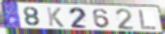2: (68, 6, 90, 30), (114, 8, 136, 31)
6: (92, 8, 111, 29)
8: (23, 6, 42, 27)
K: (45, 6, 66, 28)
L: (138, 9, 158, 30)
